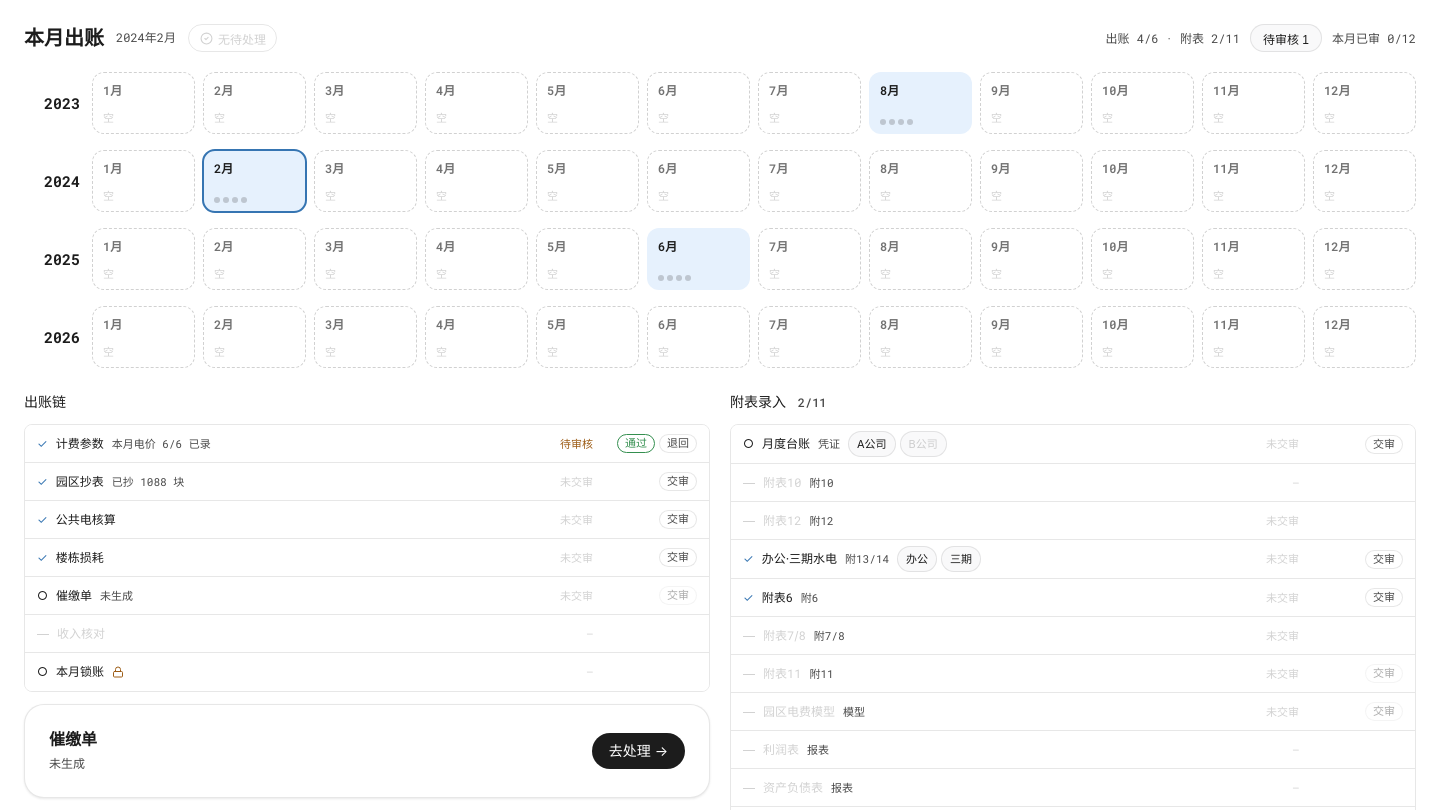
Test: 审核条(R2 T7) › ❗「只看待审」筛掉其余行,再点一下还原
The image size is (1440, 810).
Click the button with class "dh-rvpill". click: (1286, 38)
box: [1250,24,1322,52]
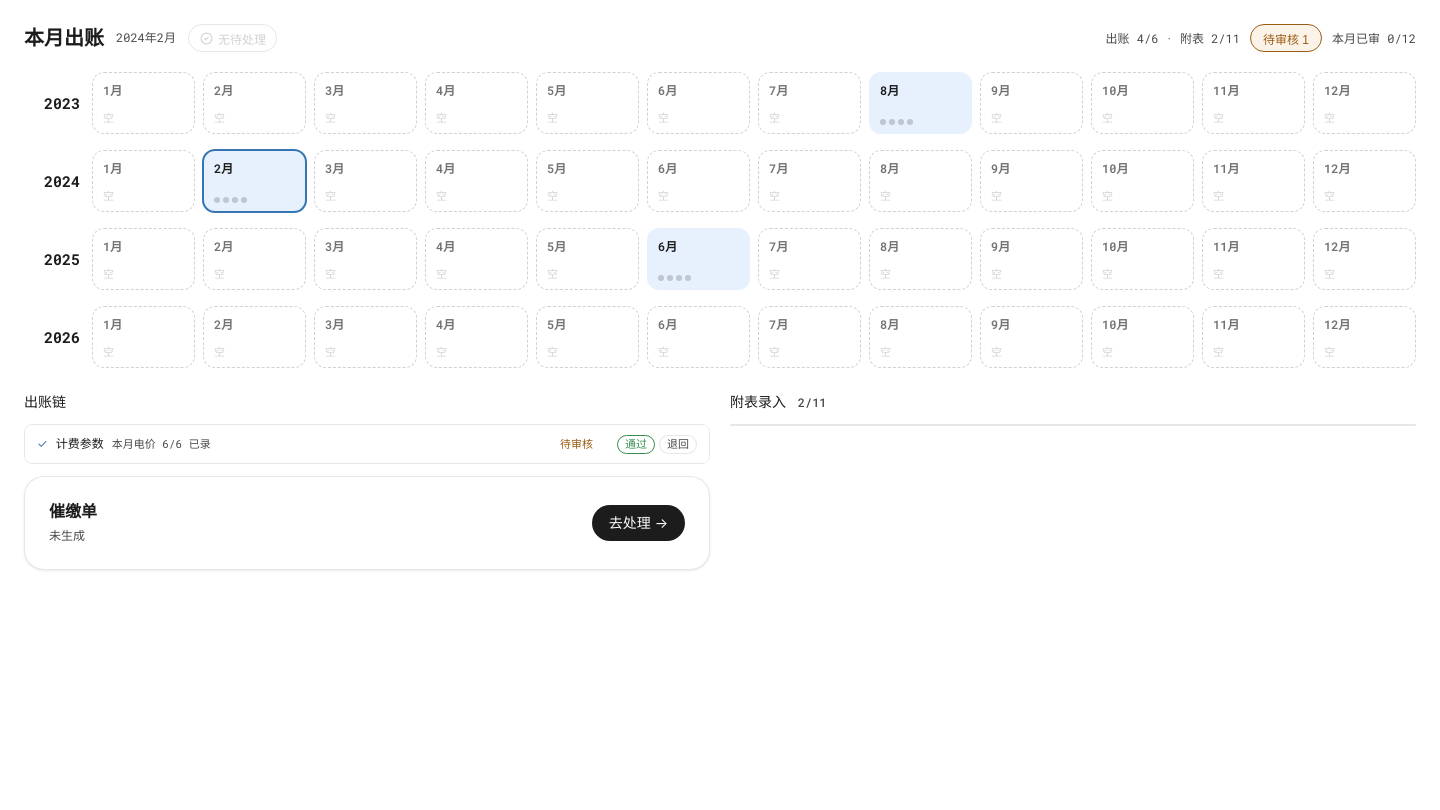
Expected: the list item with class "dh-row" shows "计费参数", [56,436,104,451]
Now the number of list items with class "dh-row" is 1, box [25,425,709,463]
Click the button with class "dh-rvpill". click: (1286, 38)
box: [1250,24,1322,52]
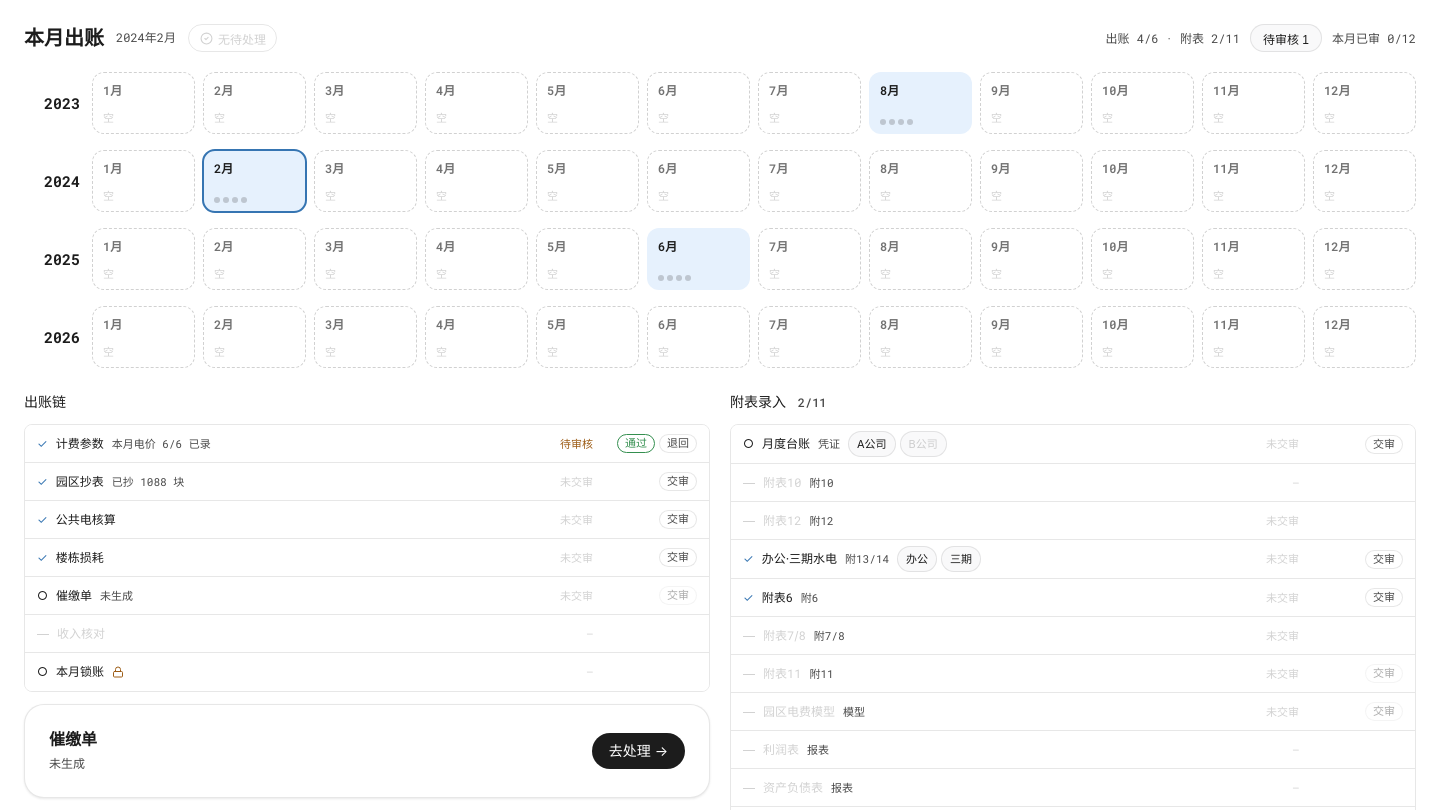
Now the number of list items with class "dh-row" is 19
